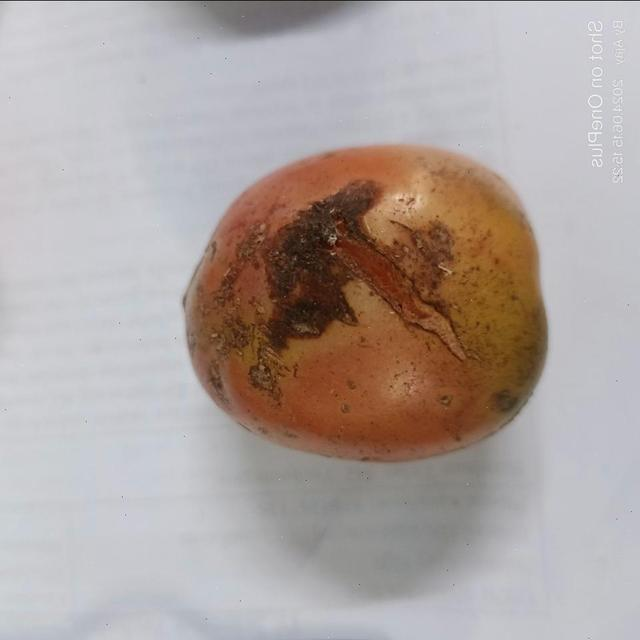Cracking Fruit: (177, 140, 248, 179)
